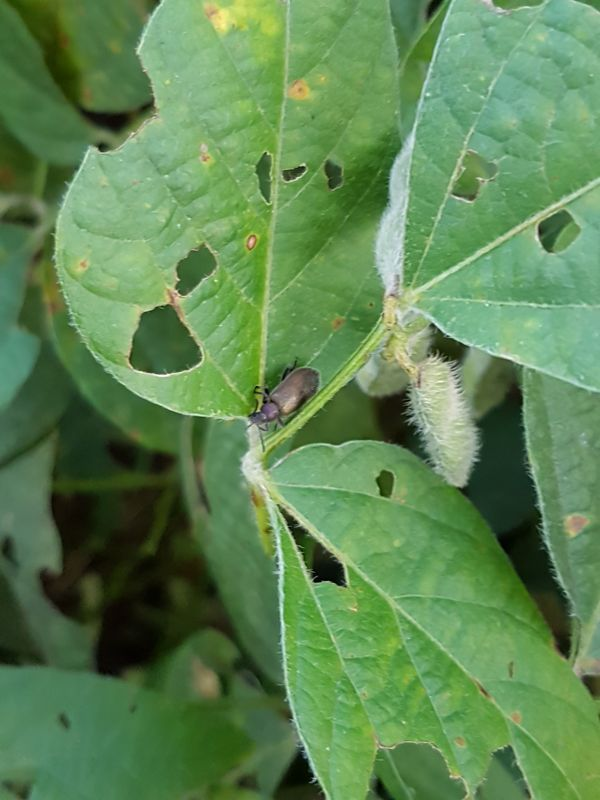Lagria_villosa: (229, 348, 330, 444)
